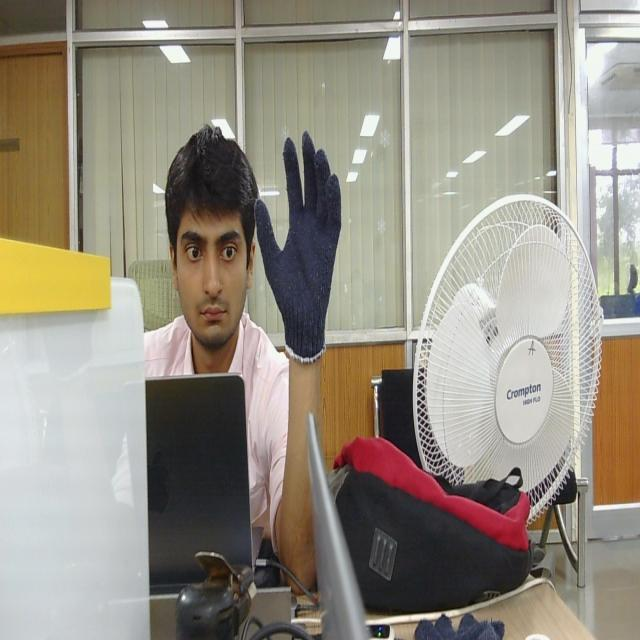Gloves-Detection: (252, 127, 342, 366)
